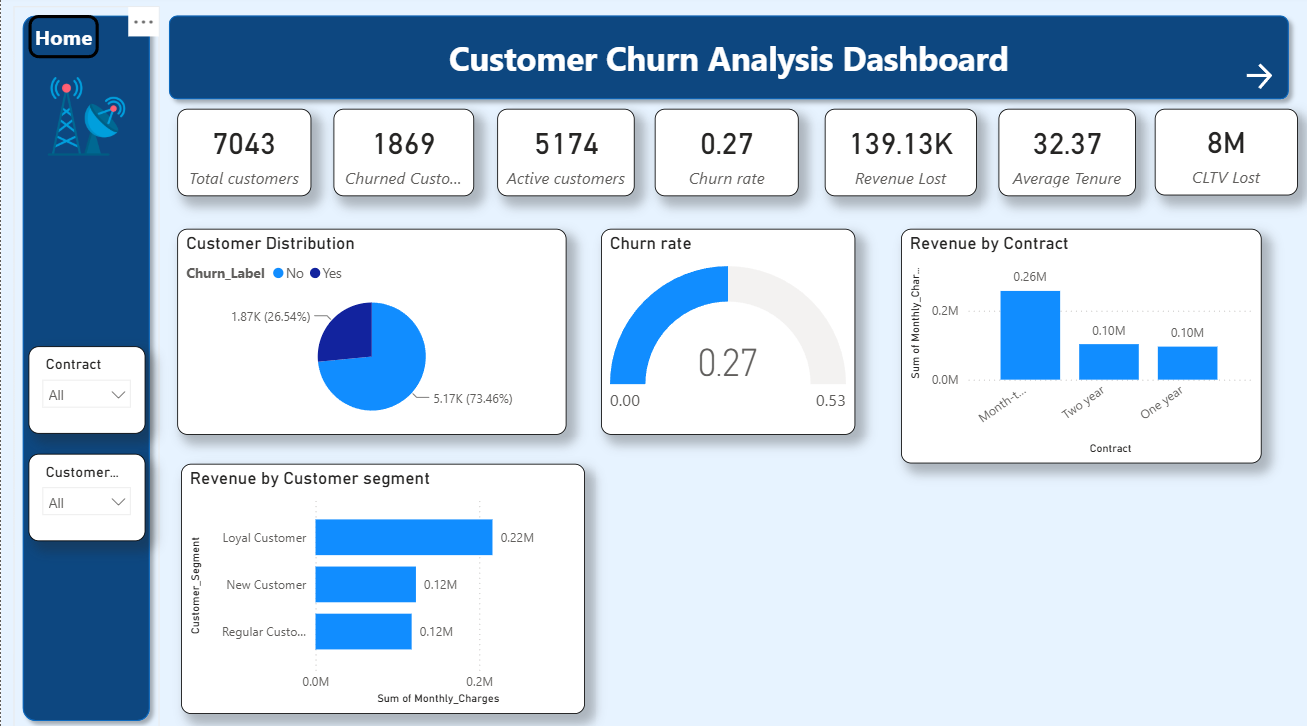

What the dashboard file says about the page in this screenshot:
{"tool":"powerbi","page":{"name":"Executive summary","canvas":[1280,720],"ordinal":1},"visuals":[{"type":"card","fields":{"Values":["TELCO.Total customers"]},"box":[171.9,111.6,130.8,85.9],"z":0},{"type":"card","fields":{"Values":["TELCO.Churned Customers"]},"box":[325.8,111.6,137.3,85.9],"z":1000},{"type":"card","fields":{"Values":["TELCO.Active customers"]},"box":[484.9,111.6,134.7,85.9],"z":2000},{"type":"card","fields":{"Values":["TELCO.Churn rate"]},"box":[640.1,111.6,141.1,85.9],"z":3000},{"type":"card","fields":{"Values":["TELCO.Revenue Lost"]},"box":[805.6,111.6,148.8,85.9],"z":4000},{"type":"card","fields":{"Values":["TELCO.CLTV Lost"]},"box":[1128.9,111.6,139.8,84.7],"z":5000},{"type":"card","fields":{"Values":["TELCO.Average Tenure"]},"box":[976.2,111.6,134.7,85.9],"z":6000},{"type":"shape","box":[155.2,11.5,1113.5,100.1],"z":7000},{"type":"pieChart","title":"Customer Distribution","fields":{"Category":["TELCO.Churn_Label"],"Y":["CountNonNull(TELCO.CustomerID)"]},"box":[171.9,228.3,381,201.4],"z":8000},{"type":"gauge","fields":{"Y":["TELCO.Churn rate"]},"box":[587.5,228.3,248.9,201.4],"z":9000},{"type":"clusteredColumnChart","title":"Revenue by Contract","fields":{"Category":["TELCO.Contract"],"Y":["Sum(TELCO.Monthly_Charges)"]},"box":[880,228.3,352.8,229.6],"z":10000},{"type":"clusteredBarChart","title":"Revenue by Customer segment","fields":{"Category":["TELCO.Customer_Segment"],"Y":["Sum(TELCO.Monthly_Charges)"]},"box":[175.7,458,395.1,245],"z":11000},{"type":"shape","box":[12.8,11.5,142.4,708.1],"z":12000},{"type":"slicer","fields":{"Values":["TELCO.Contract"]},"box":[26.9,343.8,114.2,85.9],"z":13000},{"type":"slicer","fields":{"Values":["TELCO.Customer_Segment"]},"box":[26.9,449,114.2,85.9],"z":14000},{"type":"actionButton","box":[26.4,19.8,68.7,42.3],"z":15000},{"type":"actionButton","box":[1212.9,62.1,67.4,34.4],"z":16000},{"type":"image","box":[45.2,79.5,77,78.3],"z":16001}]}

Visuals, with their boxes in screenshot pixels (x1, y1, x2, y2), scaled from the page's 1280x720 canvas onto the 1307x726 screenshot:
card - TELCO.Total customers: {"x1": 176, "y1": 113, "x2": 309, "y2": 199}
card - TELCO.Churned Customers: {"x1": 333, "y1": 113, "x2": 473, "y2": 199}
card - TELCO.Active customers: {"x1": 495, "y1": 113, "x2": 633, "y2": 199}
card - TELCO.Churn rate: {"x1": 654, "y1": 113, "x2": 798, "y2": 199}
card - TELCO.Revenue Lost: {"x1": 823, "y1": 113, "x2": 975, "y2": 199}
card - TELCO.CLTV Lost: {"x1": 1153, "y1": 113, "x2": 1295, "y2": 198}
card - TELCO.Average Tenure: {"x1": 997, "y1": 113, "x2": 1134, "y2": 199}
shape: {"x1": 158, "y1": 12, "x2": 1295, "y2": 113}
"Customer Distribution" pieChart: {"x1": 176, "y1": 230, "x2": 565, "y2": 433}
gauge - TELCO.Churn rate: {"x1": 600, "y1": 230, "x2": 854, "y2": 433}
"Revenue by Contract" clusteredColumnChart: {"x1": 899, "y1": 230, "x2": 1259, "y2": 462}
"Revenue by Customer segment" clusteredBarChart: {"x1": 179, "y1": 462, "x2": 583, "y2": 709}
shape: {"x1": 13, "y1": 12, "x2": 158, "y2": 725}
slicer - TELCO.Contract: {"x1": 27, "y1": 347, "x2": 144, "y2": 433}
slicer - TELCO.Customer_Segment: {"x1": 27, "y1": 453, "x2": 144, "y2": 539}
actionButton: {"x1": 27, "y1": 20, "x2": 97, "y2": 63}
actionButton: {"x1": 1238, "y1": 63, "x2": 1306, "y2": 97}
image: {"x1": 46, "y1": 80, "x2": 125, "y2": 159}
